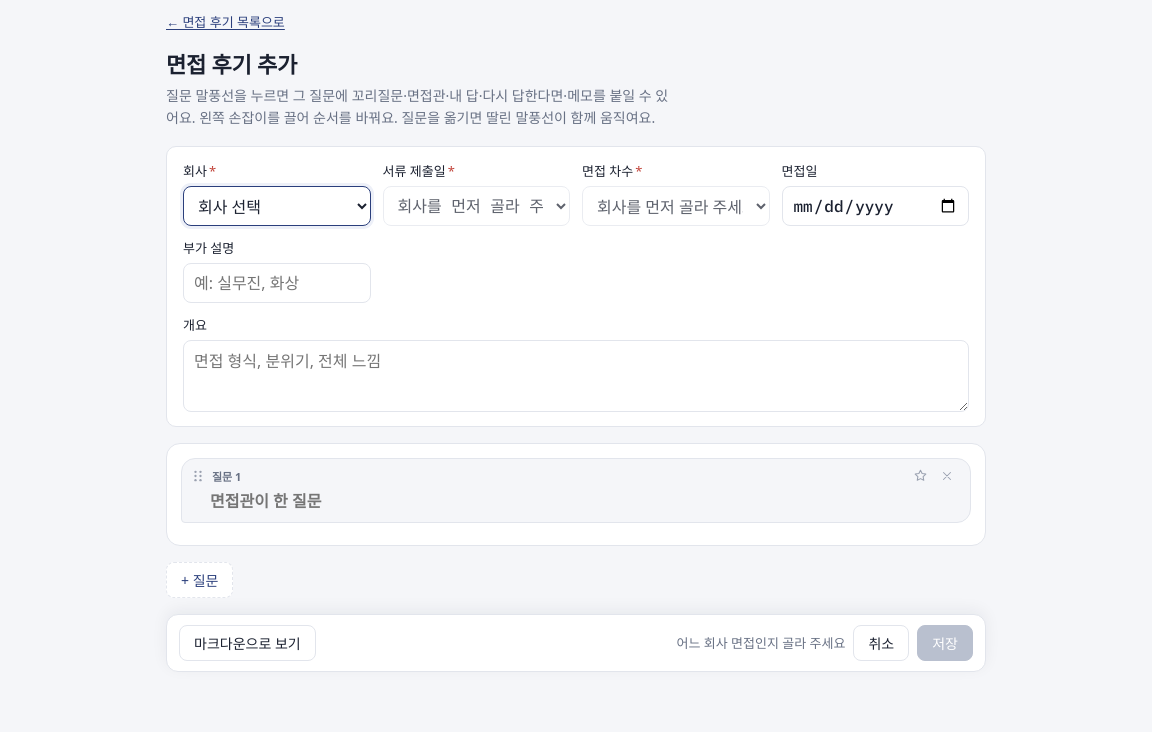
Test: ReviewEditScreen › asks for the company, the submission day and the round before saving
Expected: the heading "면접 후기 추가" is shown, [166, 49, 297, 79]
Expected: the text "어느 회사 면접인지 골라 주세요" is shown, [676, 633, 846, 652]
Step 1. Select "한빛증권" in the dropdown labelled "회사*" → point(277, 206), box [183, 186, 370, 226]
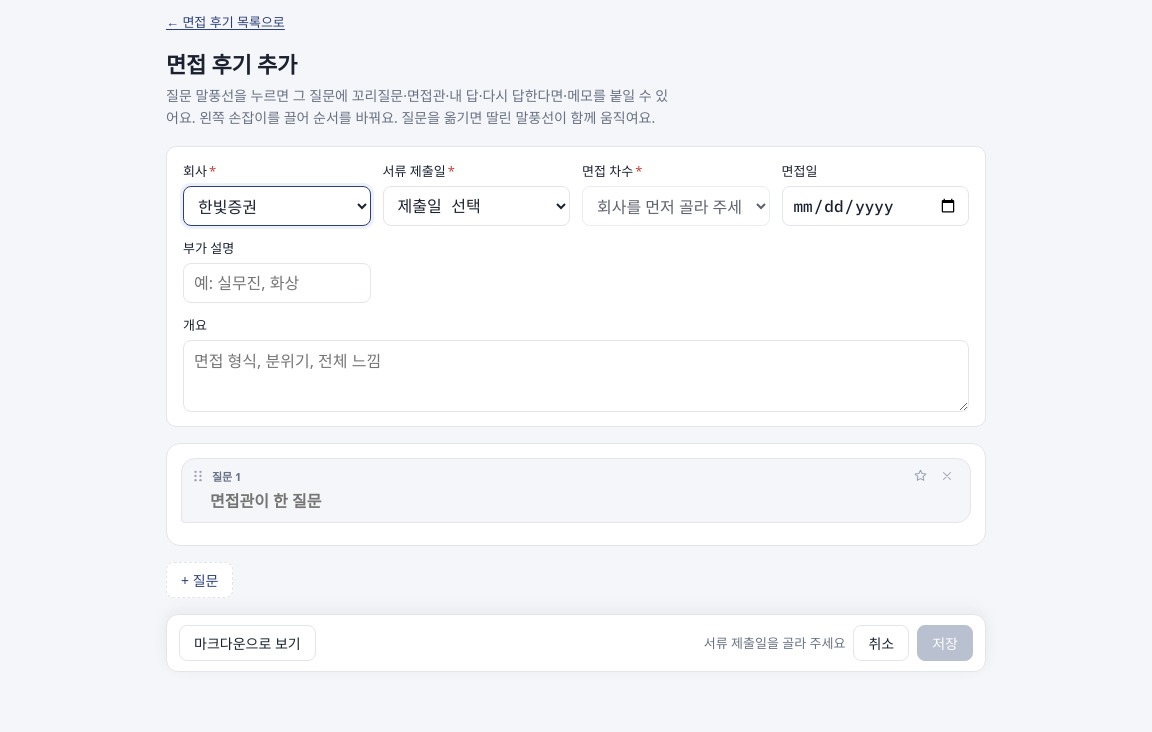
Expected: the text "서류 제출일을 골라 주세요" is shown, [704, 633, 846, 652]
Step 2. Select "2026-06-15 (하반기)" in the dropdown labelled "서류 제출일*" → point(476, 206), box [382, 186, 570, 226]
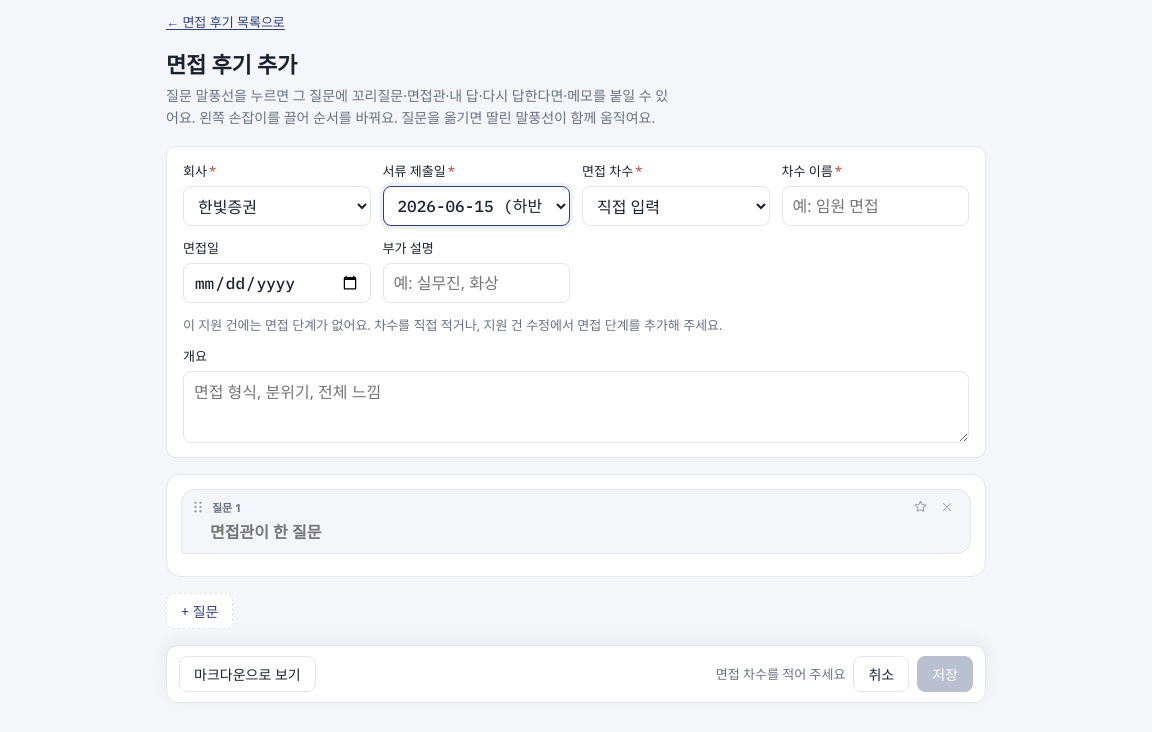
Expected: the text "이 지원 건에는 면접 단계가 없어요. 차수를 직접 적거나, 지원 건 수정에서 면접 단계를 추가해 주세요." is shown, [183, 316, 723, 334]
Expected: the dropdown labelled "면접 차수*" shows "직접 입력", [582, 186, 770, 226]
Expected: the text "면접 차수를 적어 주세요" is shown, [716, 664, 846, 683]
Step 3. Type "임원 면접" into the field labelled "차수 이름*" → point(875, 206), box [782, 186, 969, 226]
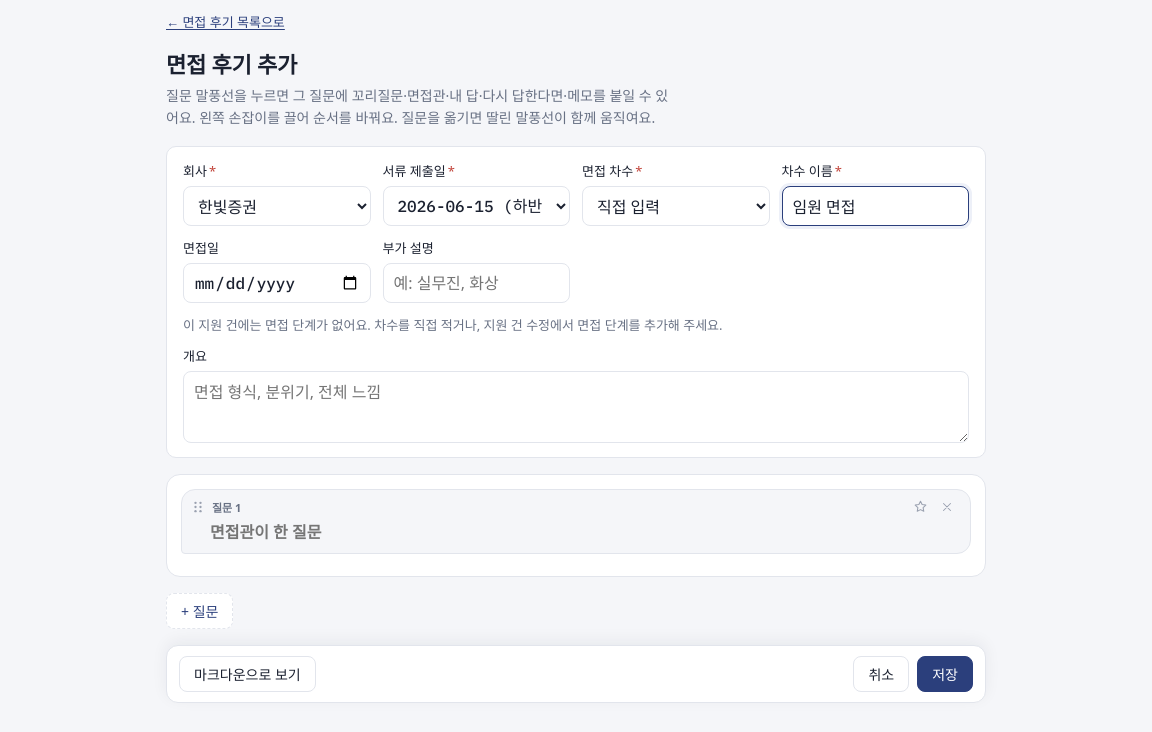
Expected: the button "저장" is enabled, [917, 656, 973, 692]
Note: 지원 건이 하나뿐인 회사는 제출일과 차수가 바로 골라진다.
Step 4. Select "바른정보" in the dropdown labelled "회사*" → point(277, 206), box [183, 186, 370, 226]
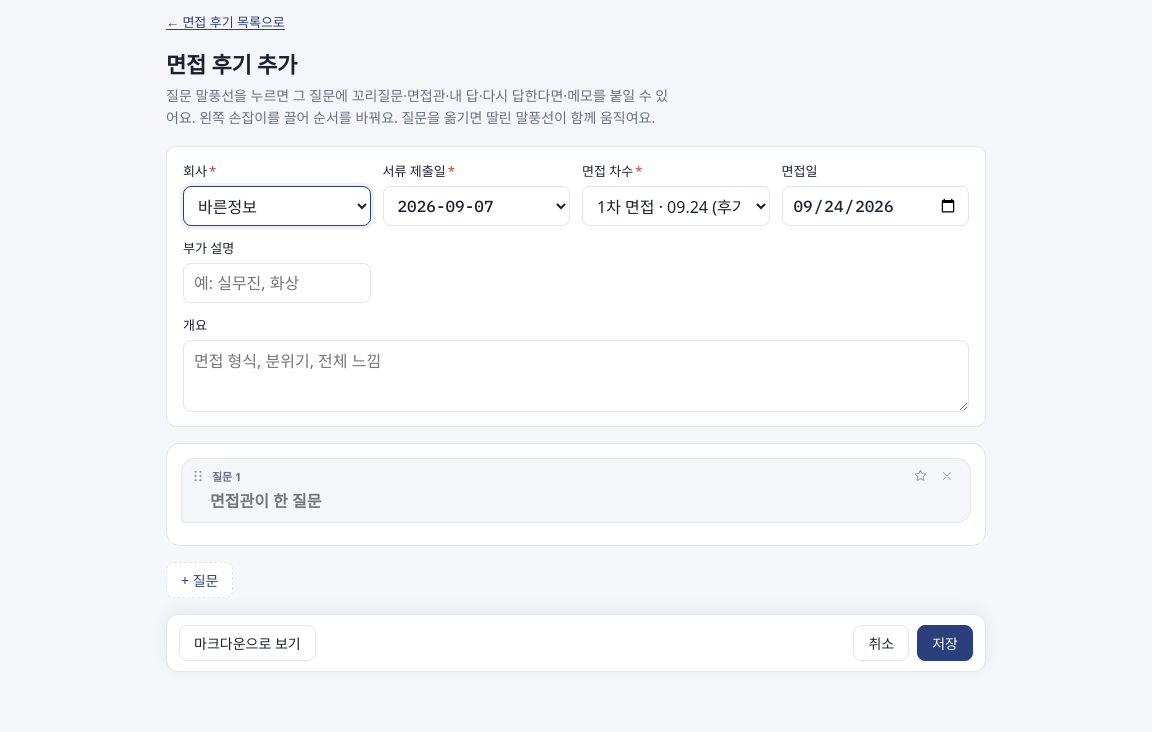
Expected: the dropdown labelled "면접 차수*" shows "1차 면접 · 09.24 (후기 있음)"
Expected: the date field labelled "면접일" holds "2026-09-24", [782, 186, 969, 226]
Step 5. Select "차수 선택" in the dropdown labelled "면접 차수*" → point(676, 206), box [582, 186, 770, 226]
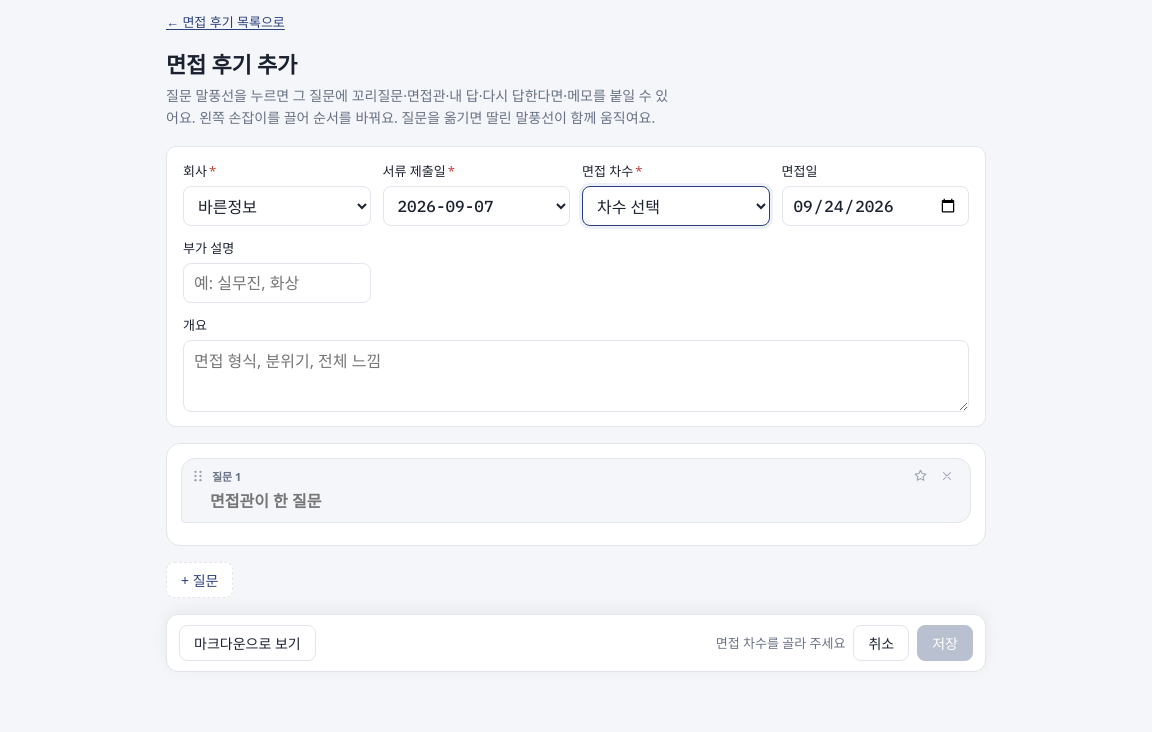
Expected: the text "면접 차수를 골라 주세요" is shown, [716, 633, 846, 652]
